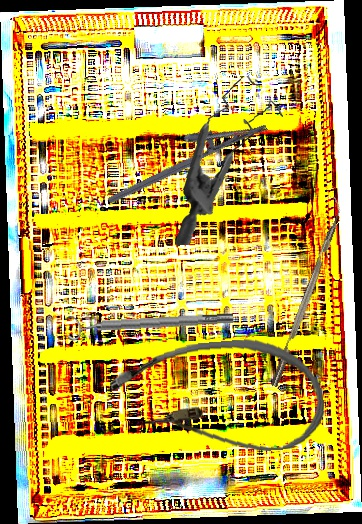Cannula: (107, 333, 328, 464)
Chopper: (262, 196, 348, 388)
Fixation Ring: (66, 305, 234, 342)
Needle Holder: (97, 101, 269, 206)
Speculum: (161, 73, 294, 246)
